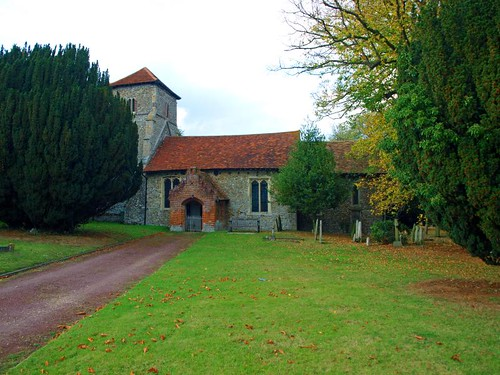building: (119, 70, 390, 236)
road: (1, 231, 191, 374)
sky: (18, 1, 344, 121)
tree: (105, 241, 500, 375), (344, 1, 499, 269), (2, 30, 141, 236), (275, 125, 343, 237)
